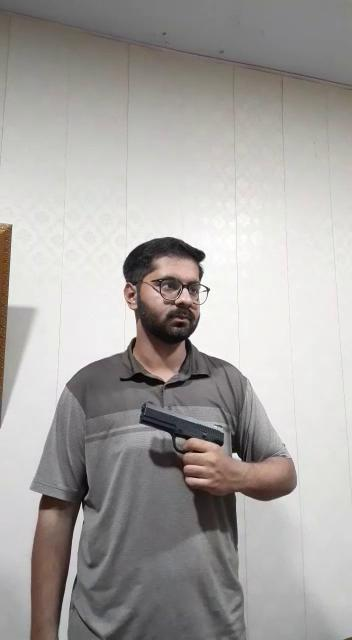criminal: (27, 232, 300, 640)
weapon: (139, 402, 235, 469)
